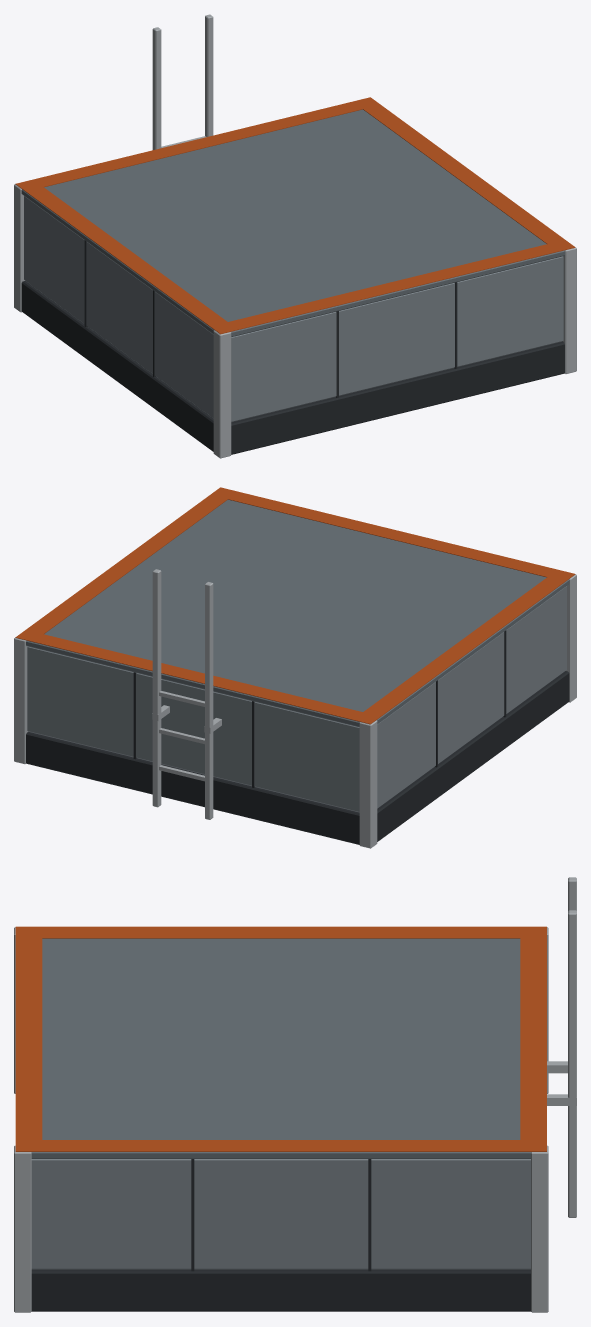
The picture shows the model from 3 angles, top to bottom: view 1: azimuth 30°, elevation 25°; view 2: azimuth 150°, elevation 25°; view 3: azimuth 270°, elevation 25°; orthographic projection. The views are drawn at different scales.
Parts seen in each view (by area): view 1: TY_PF_1; view 2: TY_PF_1; view 3: TY_PF_1.
Boxes of the visible parts, x1=… form: TY_PF_1: x1=14, y1=14, x2=576, y2=458; TY_PF_1: x1=14, y1=487, x2=576, y2=848; TY_PF_1: x1=14, y1=877, x2=576, y2=1312.
Size of the model in its own units: 3.02 by 1.9 by 3.18.
